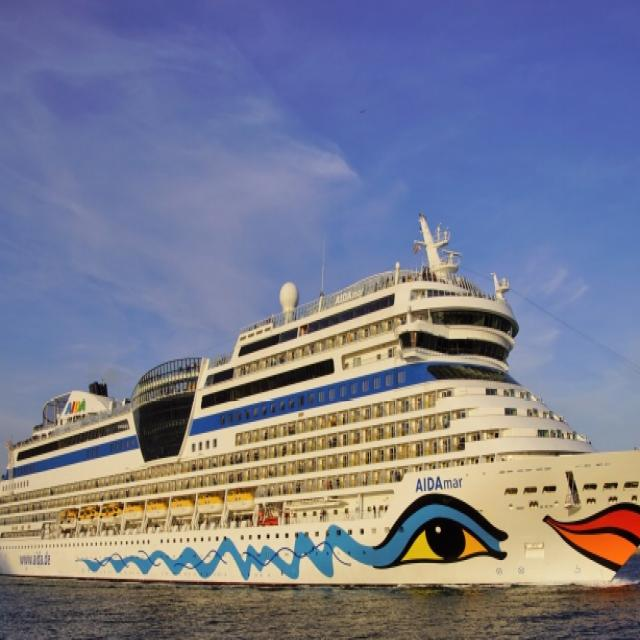cruises: (1, 207, 640, 596)
